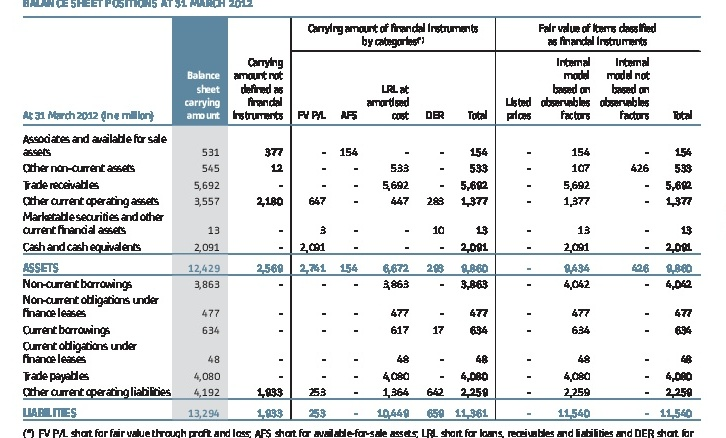table: (0, 0, 726, 438)
